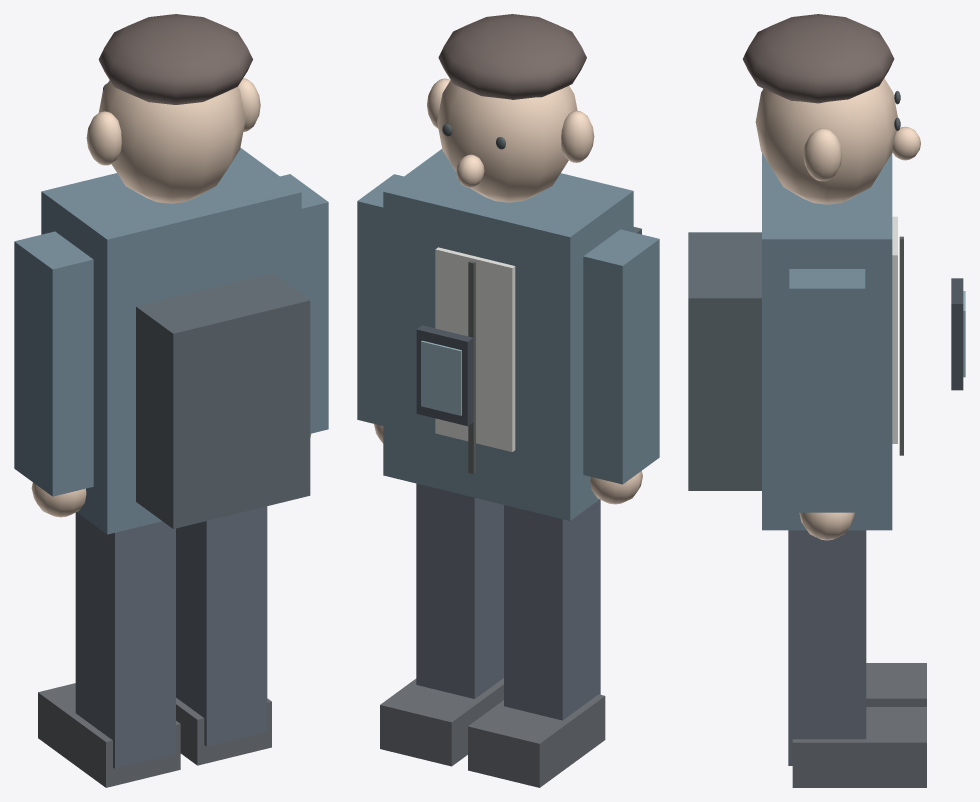
Rendered from metro-npcs.glb.
3 views of the same model, side by side, from view 1: azimuth 30°, elevation 25°; view 2: azimuth 150°, elevation 25°; view 3: azimuth 270°, elevation 25° (orthographic). The views are drawn at different scales.
Visible parts, largest first — view 1: Trouser (×2), Backpack, Jacket, Sleeve (×2), Face, Hair, Sneaker (×2), EarL, Hand, EarR; view 2: Jacket, Trouser (×2), Sleeve (×2), Sneaker (×2), Face, Shirt, Hair, Screen, PhoneBody, EarL, Zip, Hand (+2 smaller); view 3: Jacket, Backpack, Sleeve, Trouser, Sneaker (×2), Face, Hair, EarR, PhoneBody, Shirt, Hand, Zip (+1 smaller).
Part boxes in pixels (x1,y1,x2,y2): Trouser (×2): (75, 506, 267, 768); Backpack: (136, 273, 310, 528); Jacket: (41, 148, 301, 534); Sleeve (×2): (14, 174, 328, 496); Face: (98, 80, 245, 203); Hair: (98, 14, 252, 104); Sneaker (×2): (38, 683, 271, 787); EarL: (86, 111, 121, 165); Hand: (31, 482, 86, 517); EarR: (238, 78, 260, 131); Jacket: (383, 149, 633, 520); Trouser (×2): (416, 483, 600, 720); Sleeve (×2): (357, 174, 659, 484); Sneaker (×2): (380, 678, 605, 787); Face: (437, 80, 577, 202); Shirt: (435, 247, 515, 451); Hair: (438, 14, 586, 99); Screen: (421, 340, 461, 415); PhoneBody: (416, 325, 473, 426); EarL: (561, 111, 594, 162); Zip: (468, 260, 475, 474); Hand: (590, 471, 642, 504); Jacket: (762, 153, 892, 530); Backpack: (688, 232, 761, 490); Sleeve: (789, 269, 865, 512); Trouser: (788, 530, 866, 765); Sneaker (×2): (792, 663, 926, 787); Face: (755, 78, 897, 204); Hair: (743, 14, 894, 103); EarR: (803, 128, 842, 181); PhoneBody: (951, 278, 963, 390); Shirt: (892, 216, 897, 443); Hand: (799, 512, 854, 540); Zip: (899, 236, 903, 455).
Bounding box in the file's own units: 0.725 × 1.83 × 0.639.
